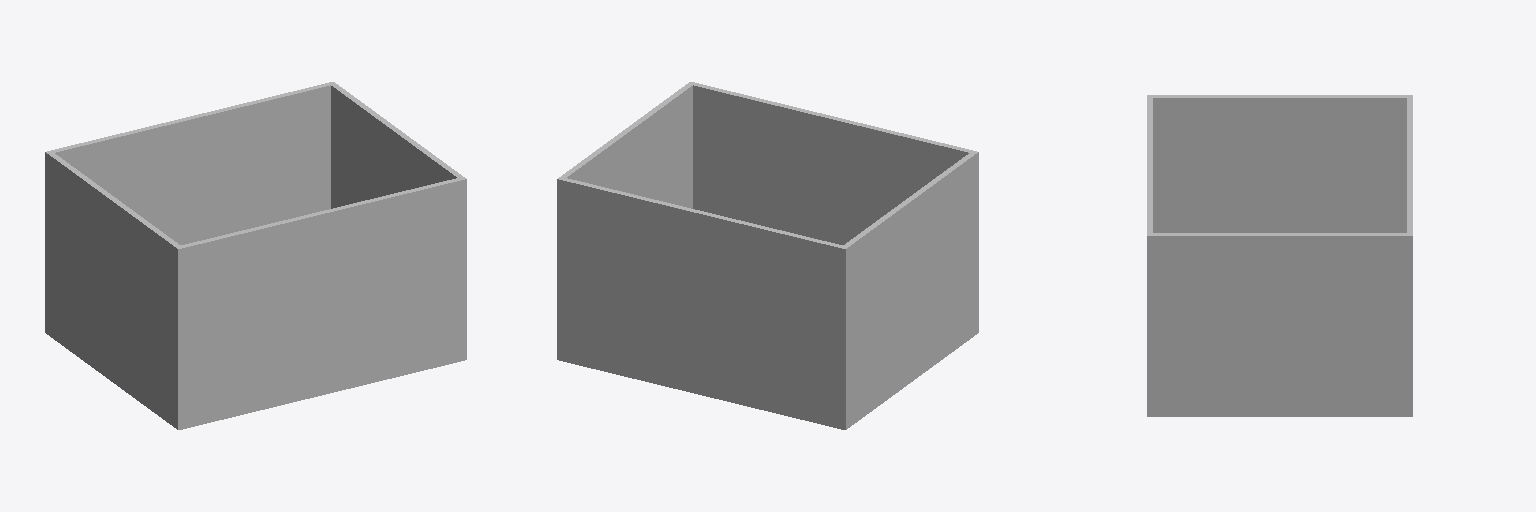
The picture shows the model from 3 angles: view 1: azimuth 30°, elevation 25°; view 2: azimuth 150°, elevation 25°; view 3: azimuth 270°, elevation 25°; orthographic projection.
Visible parts, largest first — view 1: Crate1; view 2: Crate1; view 3: Crate1.
Part boxes in pixels (x1,y1,x2,y2): Crate1: (45, 82, 466, 429); Crate1: (557, 82, 978, 429); Crate1: (1147, 95, 1412, 416).
Size of the model in its own units: 0.5 by 0.3 by 0.4.